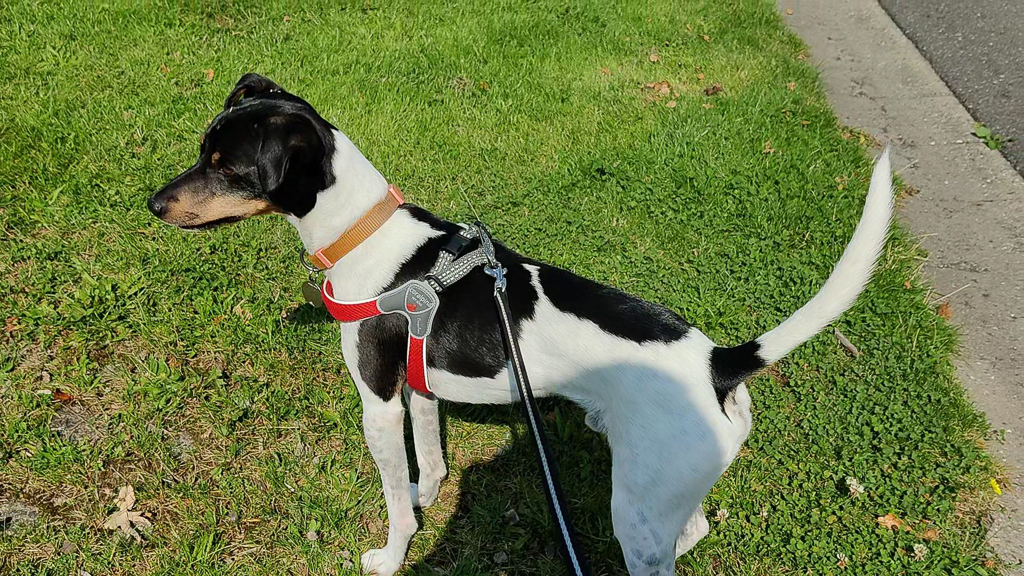Dog: (136, 61, 901, 576)
